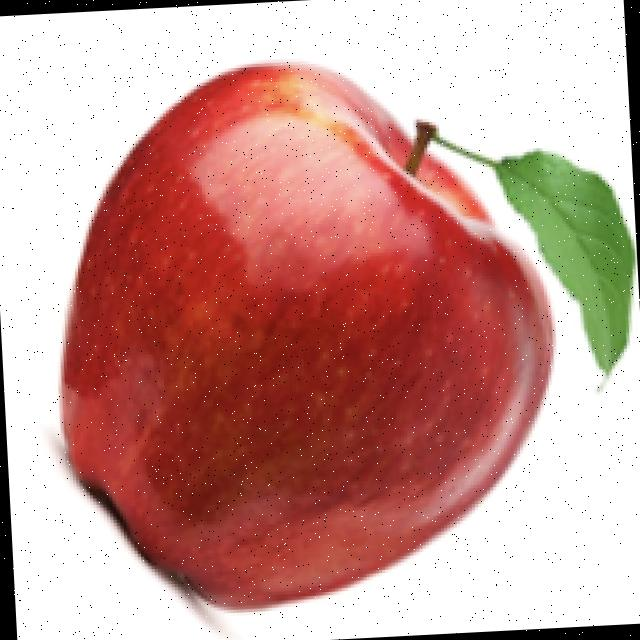apple: (40, 55, 639, 639)
